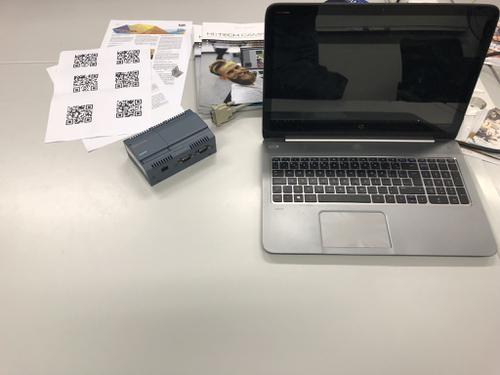device: (124, 109, 218, 187)
